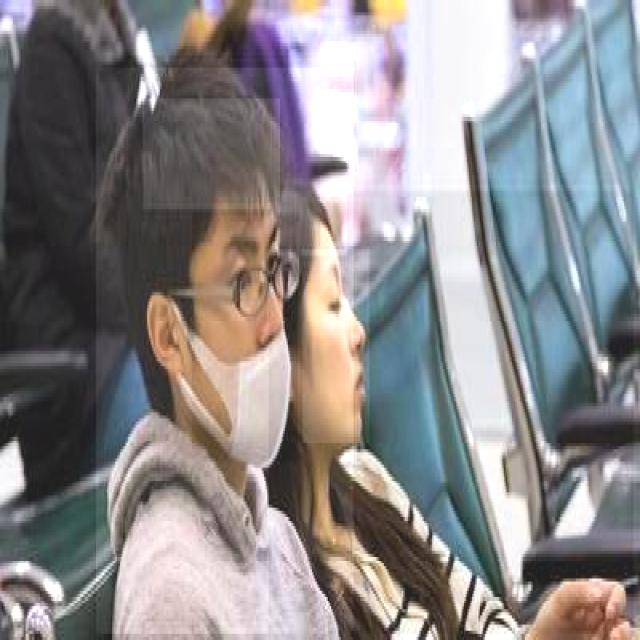face_mask: (192, 213, 298, 462)
face_nomask: (302, 249, 370, 443)
glasses: (231, 244, 302, 322)
head_nohelmet: (141, 99, 280, 212), (274, 191, 347, 258)
person: (267, 191, 634, 637), (94, 68, 353, 637)
